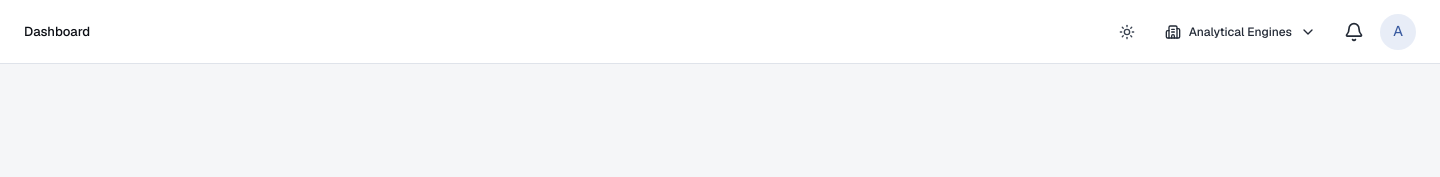
Test: switching organization › offers each organization in the session
What coordinates should you click on to do the following:
click the button with aria-label "current organization"
I would click on:
 (1240, 32)
Its box is [1153,14,1328,50].
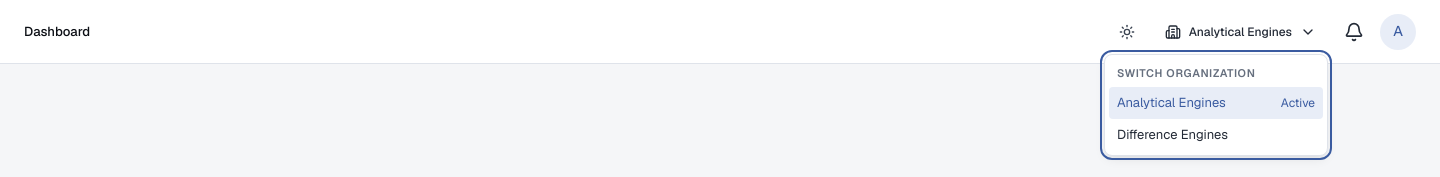
Expected: the menu item "Analytical Engines Active" is shown, [1109,87,1323,119]
Expected: the menu item "Difference Engines" is shown, [1117,126,1228,143]
